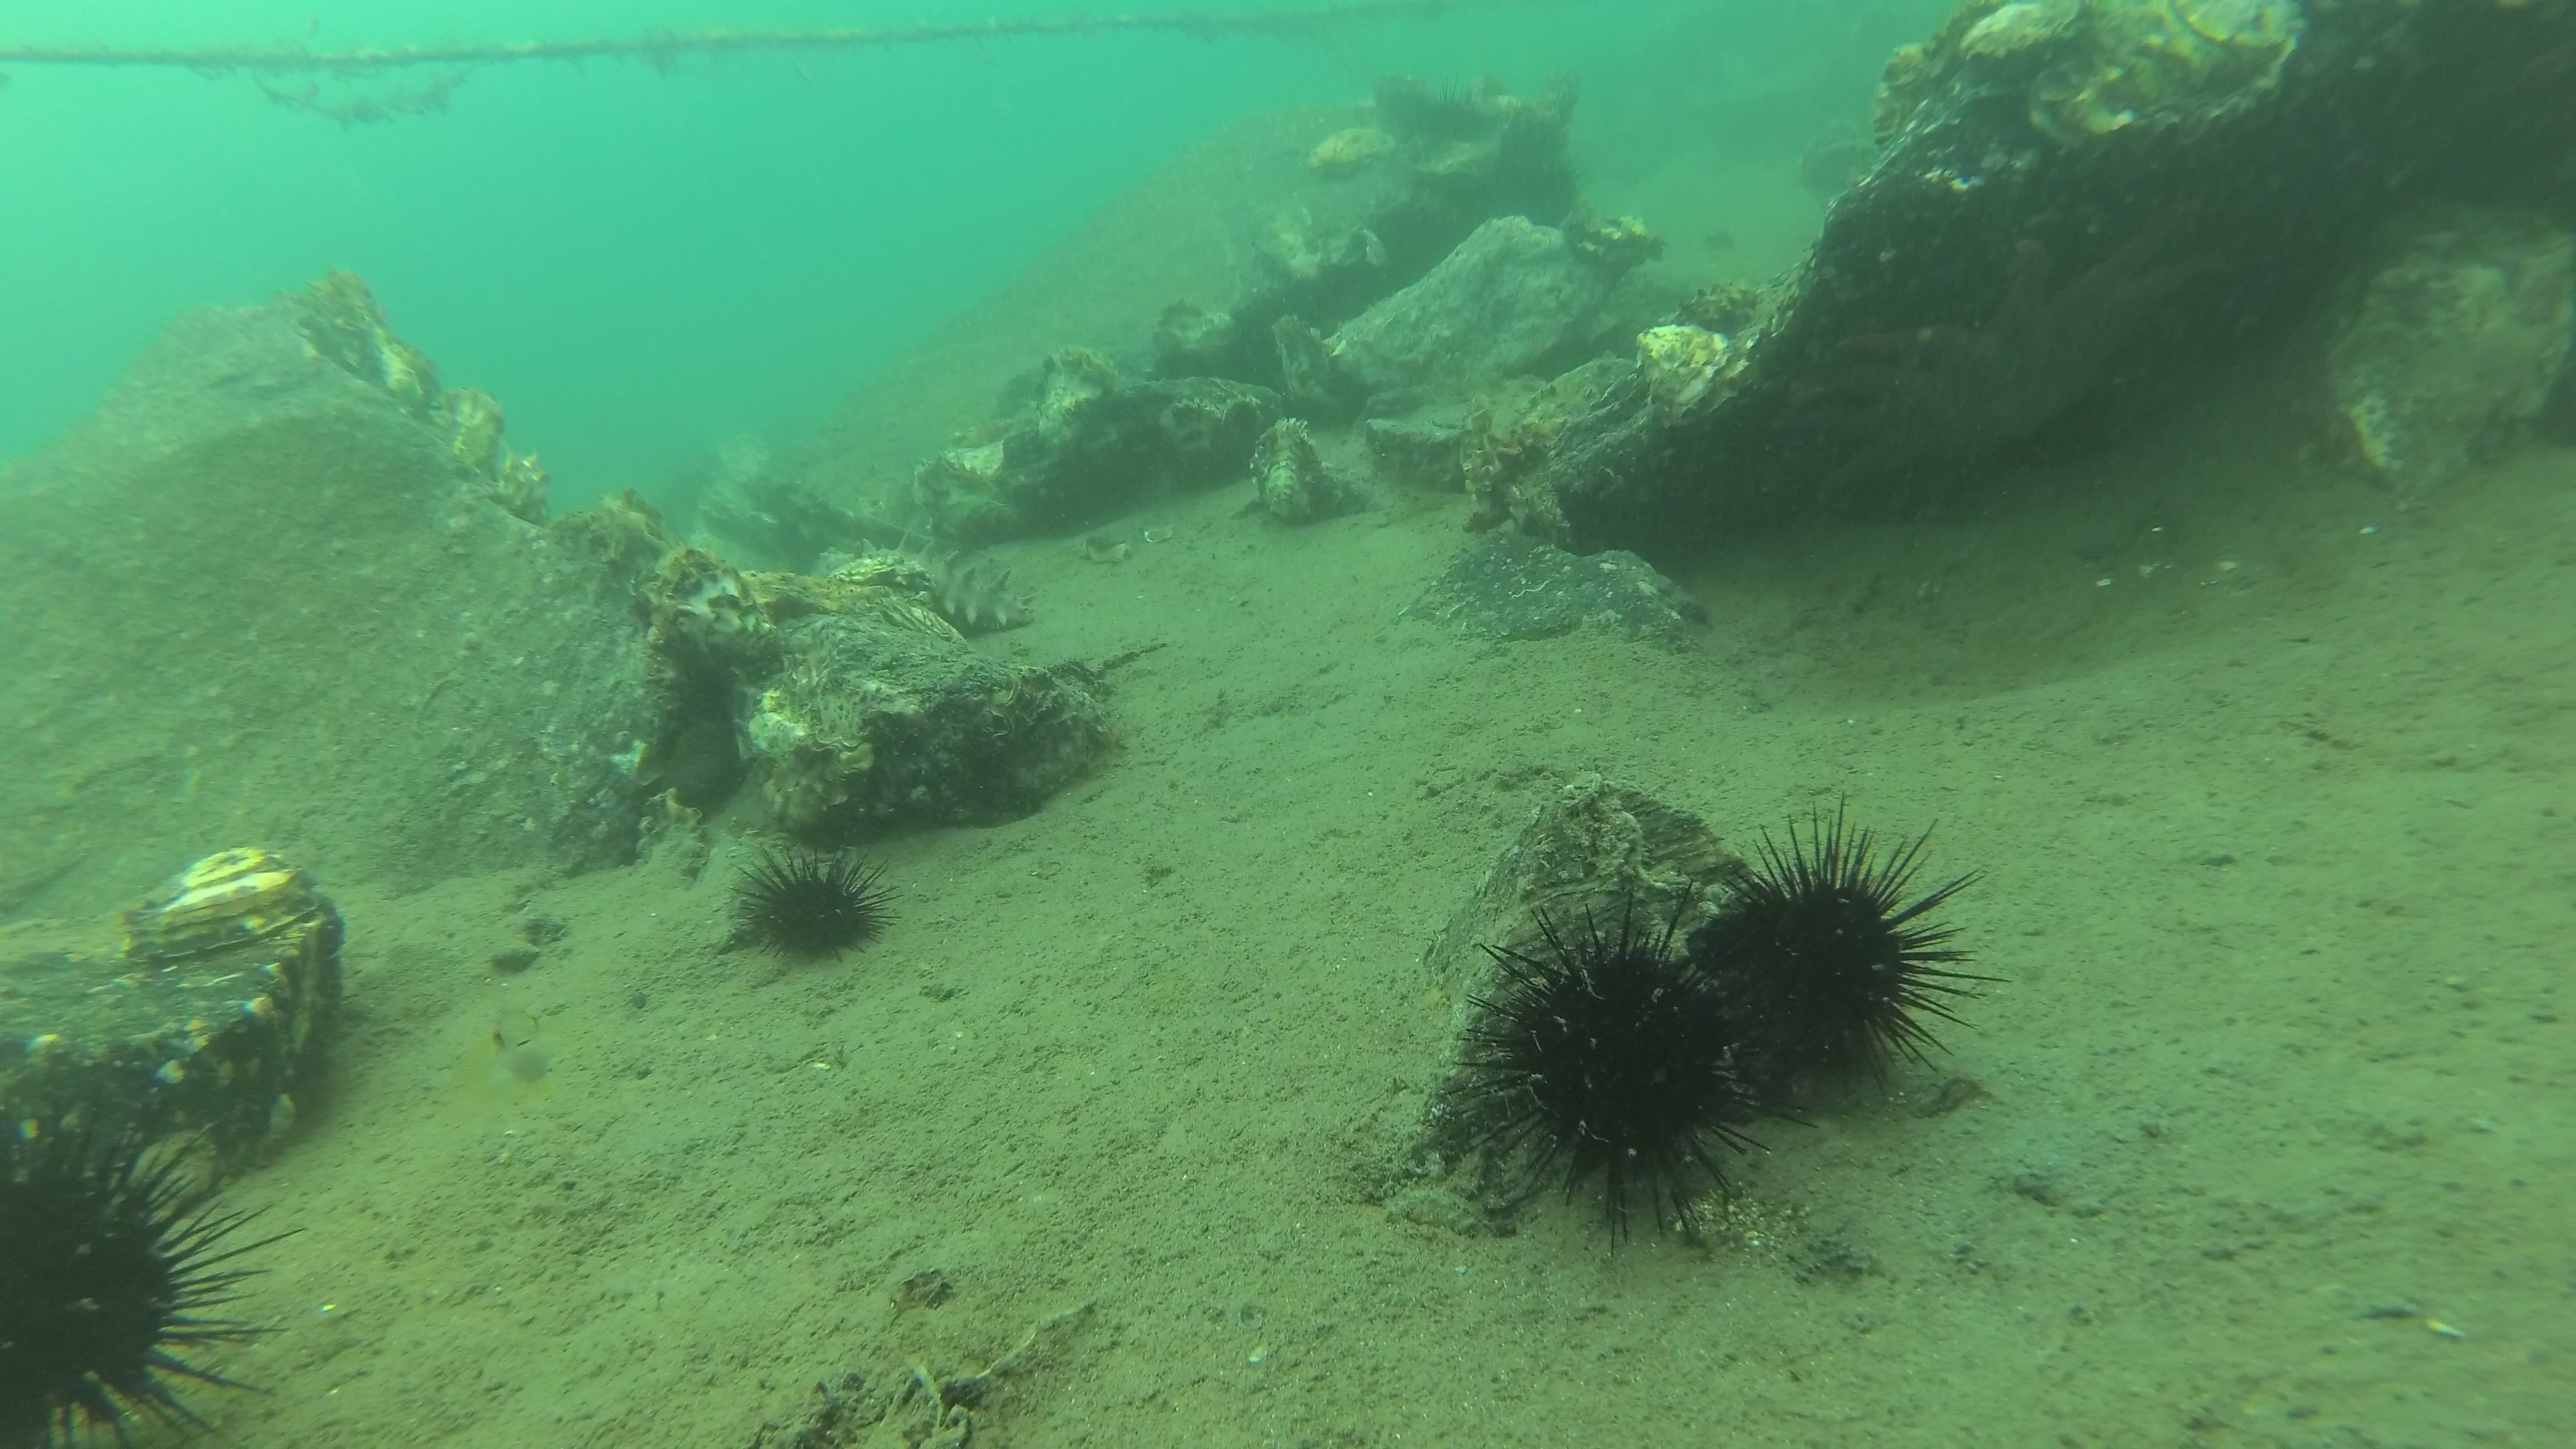echinus: (1426, 874, 1824, 1260), (0, 1093, 311, 1449), (1704, 789, 2019, 1106), (725, 835, 909, 966), (1532, 152, 1585, 225), (1417, 73, 1474, 138)
holothurian: (812, 525, 1040, 633)
starfish: (1776, 196, 2217, 499)
